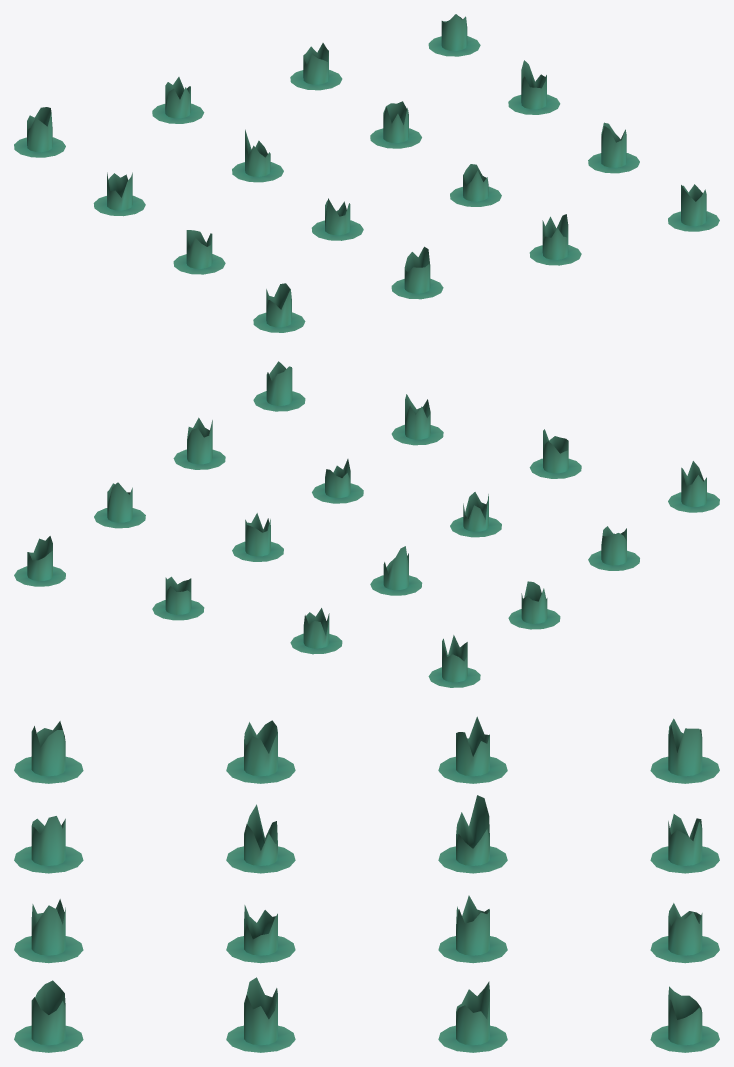
The model's file is LightRay_Field_02.FBX.
The picture shows the model from 3 angles, top to bottom: view 1: azimuth 30°, elevation 25°; view 2: azimuth 150°, elevation 25°; view 3: azimuth 270°, elevation 25°; orthographic projection. The views are drawn at different scales.
Parts seen in each view (by area): view 1: LightRay_Field_02; view 2: LightRay_Field_02; view 3: LightRay_Field_02.
Part boxes in pixels (box(x1,y1,x2,y2)): LightRay_Field_02: box(14, 14, 719, 332); LightRay_Field_02: box(14, 361, 719, 687); LightRay_Field_02: box(14, 716, 719, 1052).
Bounding box in the file's own units: 16627 × 1473 × 16638.
